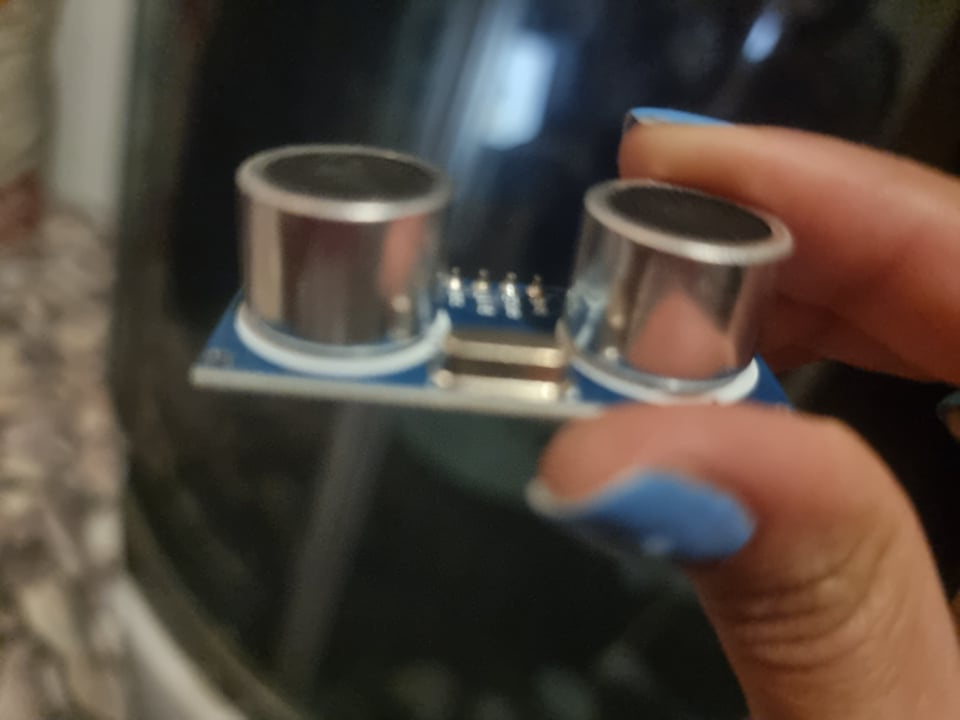SENSOR: (187, 140, 801, 415)
